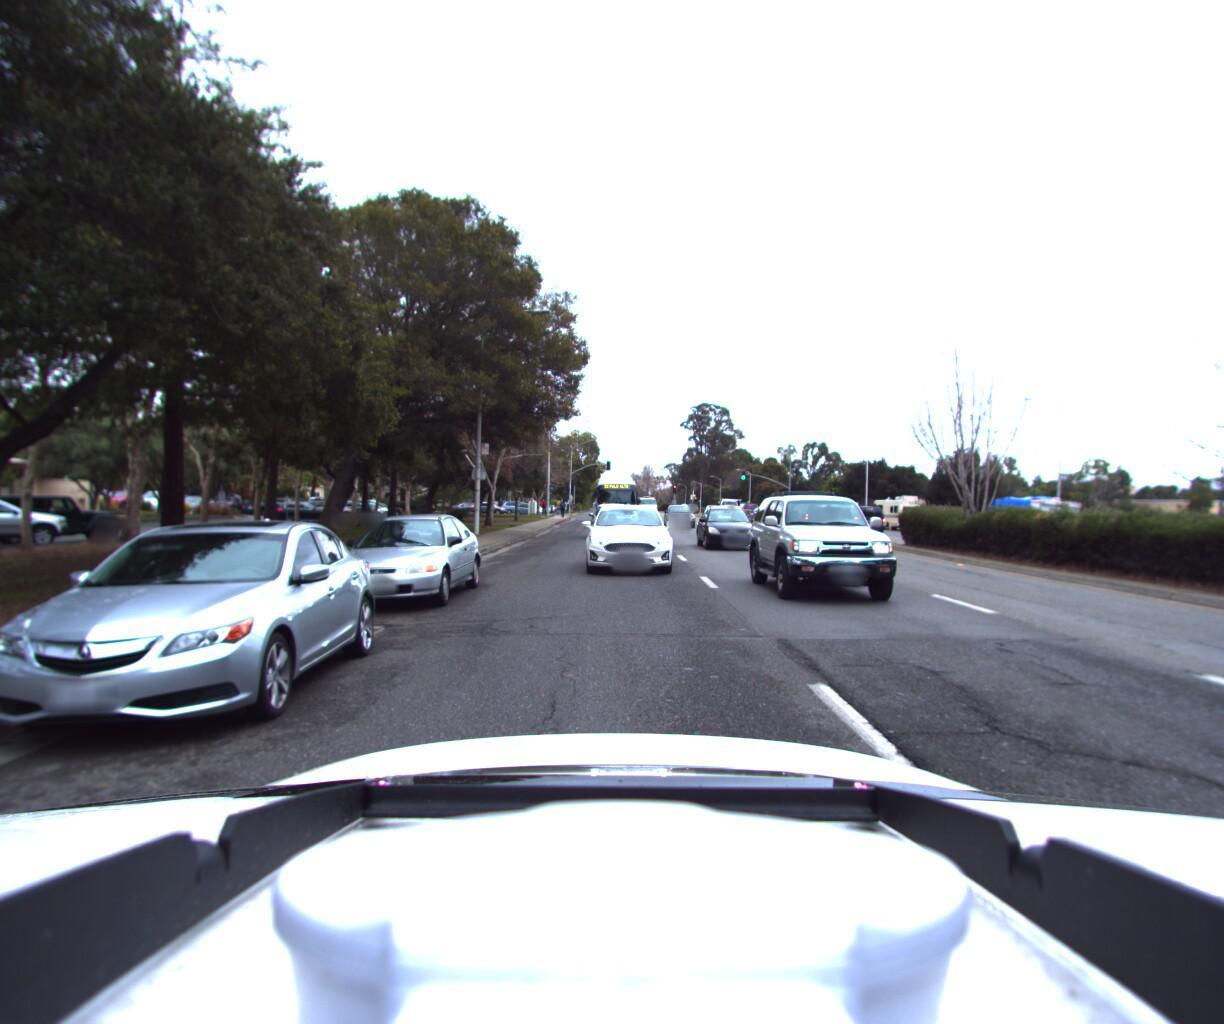car: (754, 478, 937, 618), (312, 507, 484, 619), (582, 502, 679, 581), (697, 503, 766, 559), (821, 498, 885, 539), (663, 504, 696, 529), (712, 497, 741, 518), (713, 497, 741, 518), (633, 495, 655, 516)
other_vehicle: (983, 492, 1083, 550), (866, 493, 929, 531), (587, 475, 634, 522)
